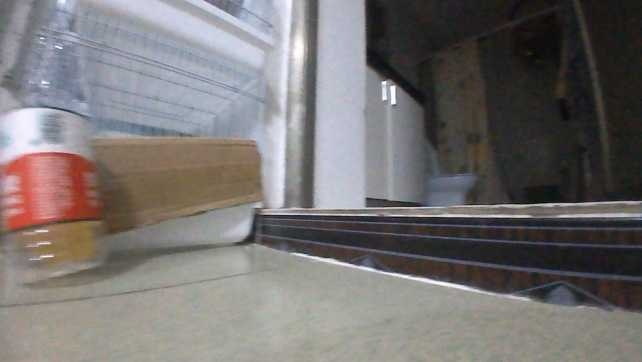door_sill: (249, 196, 641, 315)
toilet: (424, 140, 479, 205)
